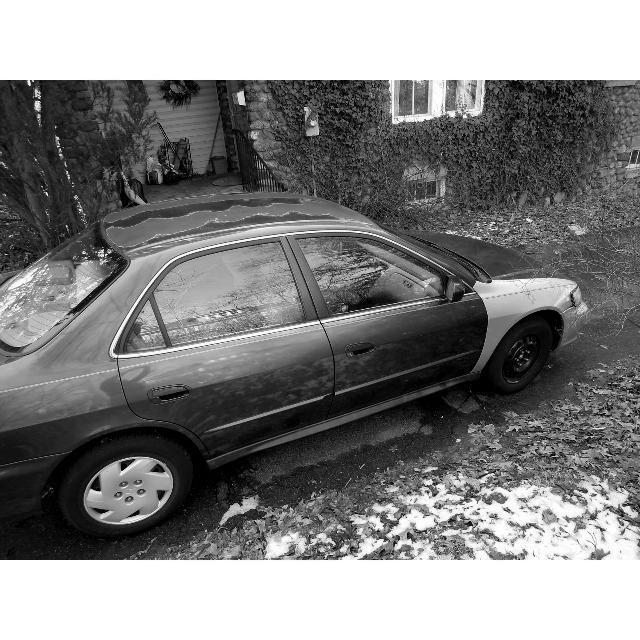roof-dent: (80, 181, 356, 245)
